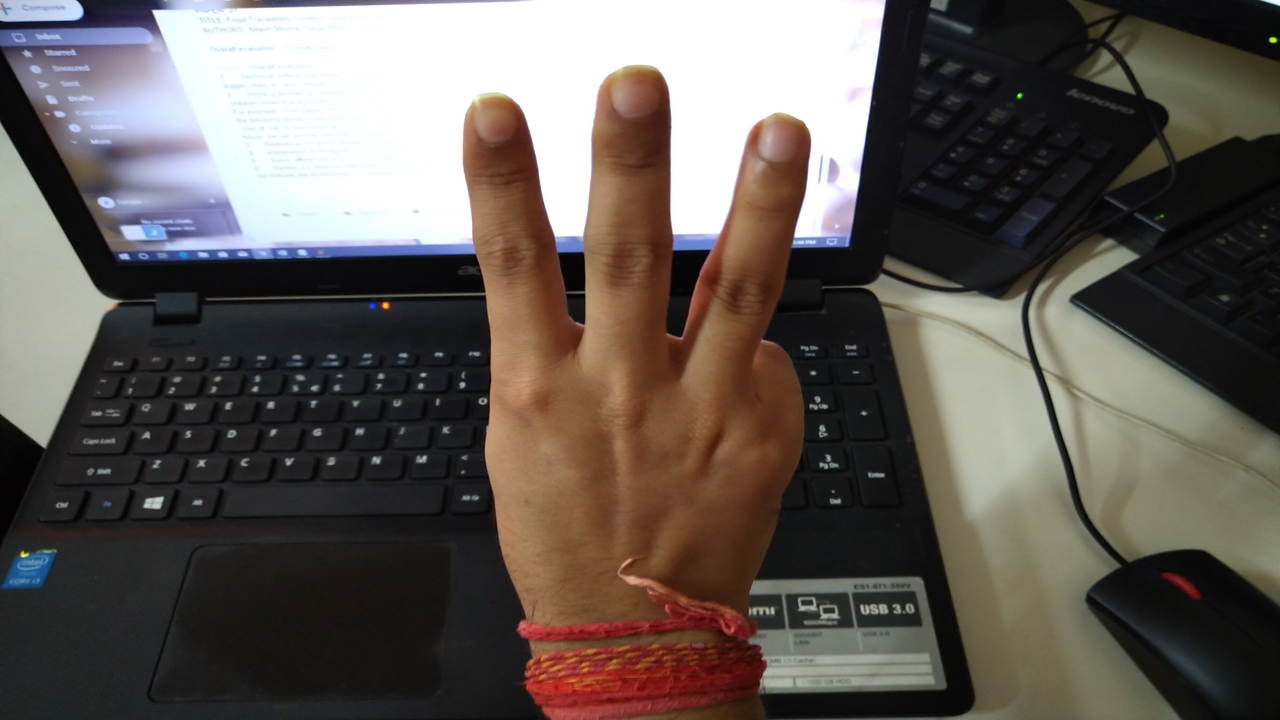fingertip: (594, 62, 672, 134), (736, 108, 812, 178), (454, 90, 532, 154)
